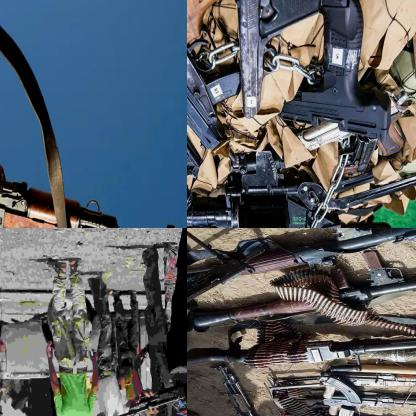pistol: (276, 0, 394, 144), (232, 0, 326, 118), (187, 0, 236, 152), (330, 136, 376, 177), (187, 104, 202, 179)
rifle: (187, 137, 415, 227), (187, 252, 415, 336), (0, 152, 183, 227), (187, 228, 415, 283), (187, 320, 415, 369), (83, 343, 186, 415), (258, 355, 415, 394), (207, 361, 293, 415), (321, 369, 415, 414)
